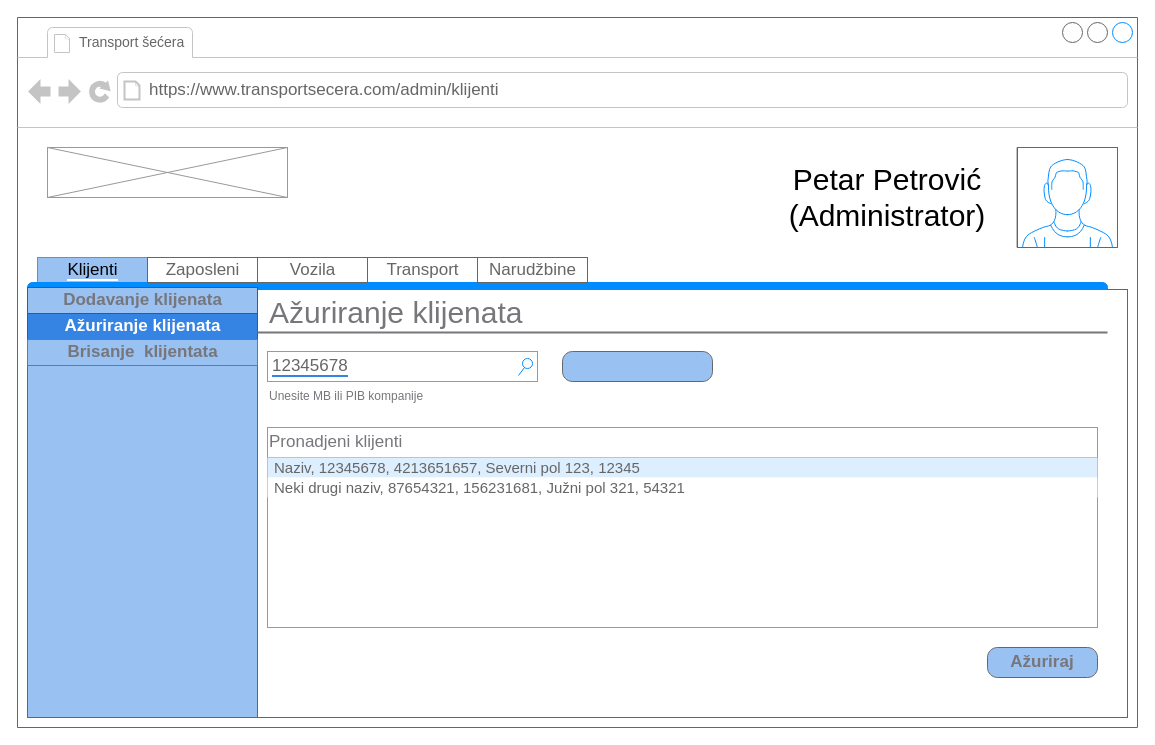
This 1155x745 diagram has some shape labels left out. The centre of each missing label's shape, as x and y in pixels:
"LOGO" belongs at pixel 167 172.
"Pretraži" belongs at pixel 637 366.
